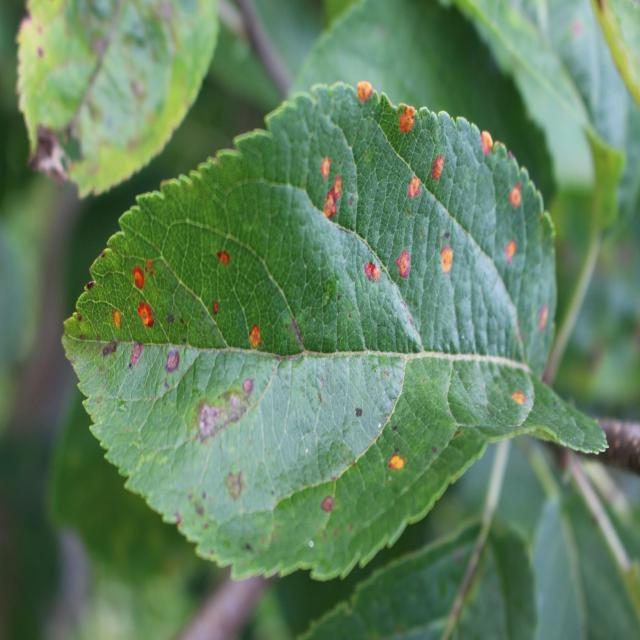Rust: (324, 175, 343, 235), (384, 446, 411, 482), (314, 486, 341, 521), (506, 382, 532, 418), (362, 253, 386, 291), (242, 322, 266, 357), (503, 234, 522, 275), (355, 76, 373, 116), (399, 102, 416, 144), (476, 129, 498, 161), (431, 152, 450, 188), (439, 242, 458, 278), (207, 291, 227, 325), (395, 248, 415, 282), (406, 169, 422, 211), (138, 300, 156, 335), (534, 304, 552, 336), (211, 249, 233, 274), (130, 263, 146, 297), (316, 150, 333, 182), (508, 182, 524, 215), (239, 372, 257, 399), (127, 341, 145, 366), (164, 351, 180, 376), (110, 304, 124, 332)
